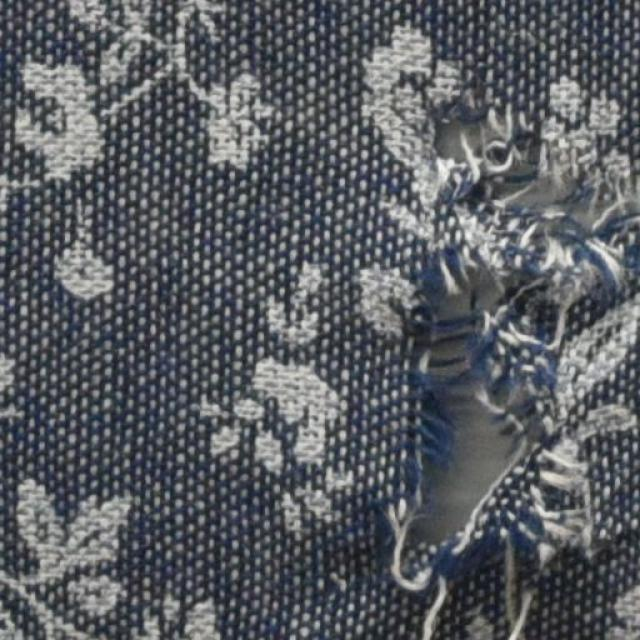Hole: (421, 290, 504, 552)
Snag: (395, 92, 637, 302), (485, 430, 598, 579)
